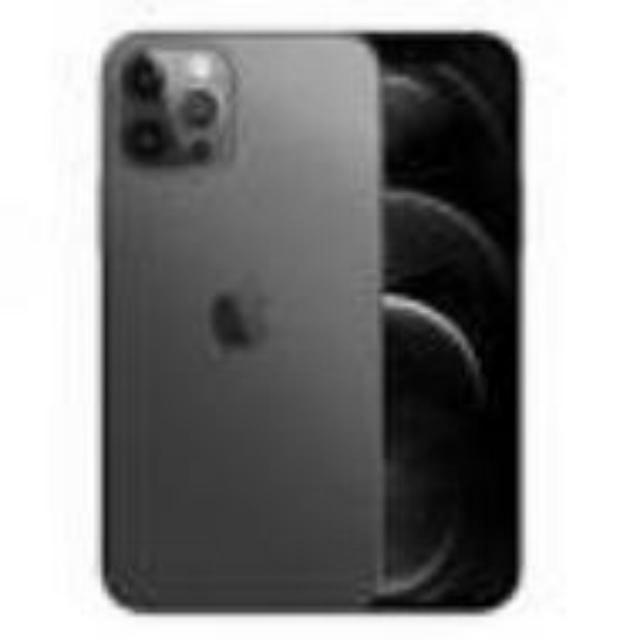fake: (92, 26, 468, 614), (372, 30, 526, 608)
